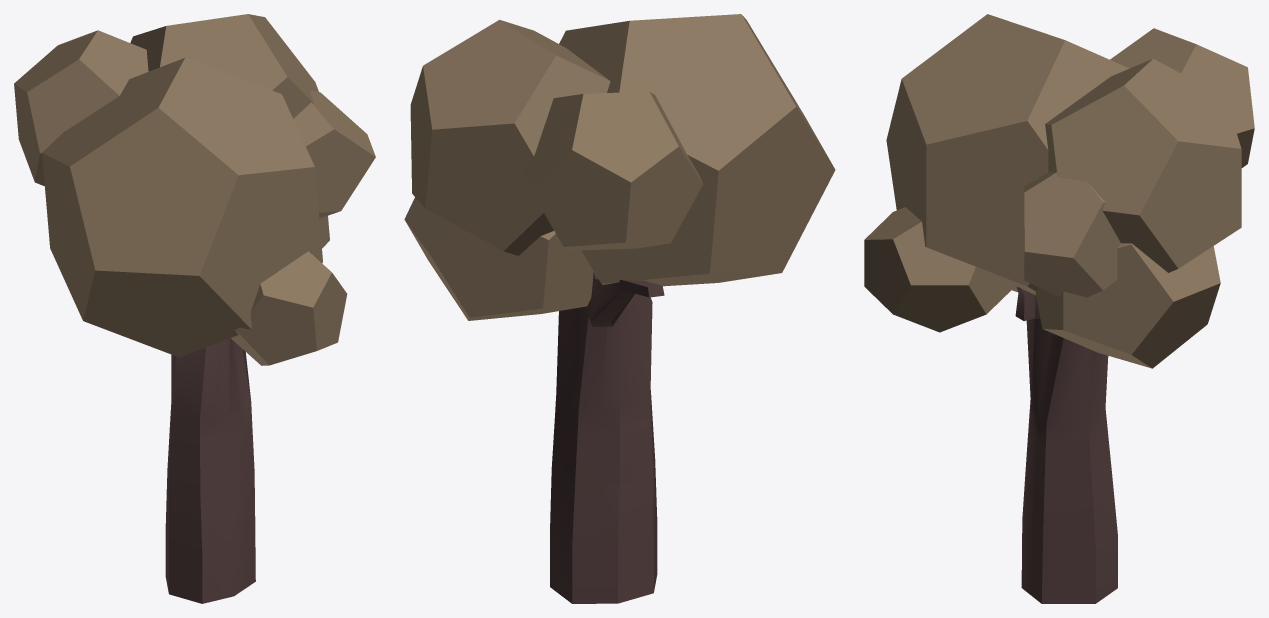
Rendered from bm-tree-brown.gltf.
The picture shows the model from 3 angles, left to right: view 1: azimuth 30°, elevation 25°; view 2: azimuth 150°, elevation 25°; view 3: azimuth 270°, elevation 25°; orthographic projection. The views are drawn at different scales.
Visible parts, largest first — view 1: Dodecahedron 6, Cube, Dodecahedron 5, Dodecahedron 3, Dodecahedron 4, Dodecahedron; view 2: Dodecahedron 6, Cube, Dodecahedron 3, Dodecahedron 5, Dodecahedron 7; view 3: Dodecahedron 6, Dodecahedron 3, Cube, Dodecahedron 7, Dodecahedron 4, Dodecahedron, Dodecahedron 5.
Boxes of the visible parts, bbox=[...] form: Dodecahedron 6: bbox=[42, 57, 322, 357]; Cube: bbox=[165, 338, 255, 603]; Dodecahedron 5: bbox=[14, 30, 148, 186]; Dodecahedron 3: bbox=[130, 14, 318, 118]; Dodecahedron 4: bbox=[231, 251, 347, 365]; Dodecahedron: bbox=[293, 90, 375, 218]; Dodecahedron 6: bbox=[559, 14, 835, 286]; Cube: bbox=[550, 271, 664, 603]; Dodecahedron 3: bbox=[410, 19, 610, 255]; Dodecahedron 5: bbox=[521, 91, 703, 250]; Dodecahedron 7: bbox=[404, 197, 593, 320]; Dodecahedron 6: bbox=[886, 14, 1129, 295]; Dodecahedron 3: bbox=[1045, 58, 1241, 272]; Cube: bbox=[1015, 287, 1117, 603]; Dodecahedron 7: bbox=[1035, 243, 1220, 368]; Dodecahedron 4: bbox=[864, 207, 1014, 332]; Dodecahedron: bbox=[1024, 172, 1120, 297]; Dodecahedron 5: bbox=[1110, 28, 1254, 167].
Bounding box in the file's own units: 5.17 × 8.01 × 5.3.
